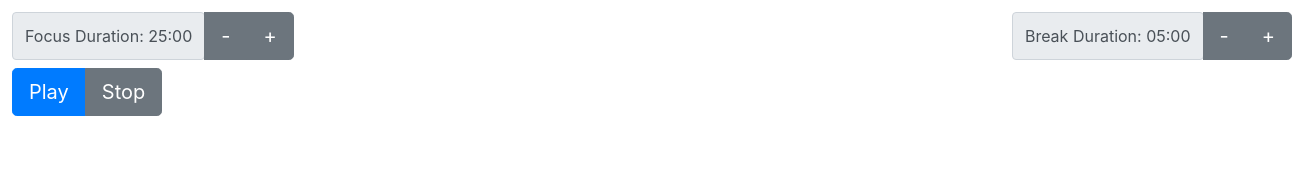
Test: Pomodoro Timer › Focus duration › decreases when clicking - button
Click the button with test id "decrease-focus".
click(226, 36)  # box [204,12,248,60]
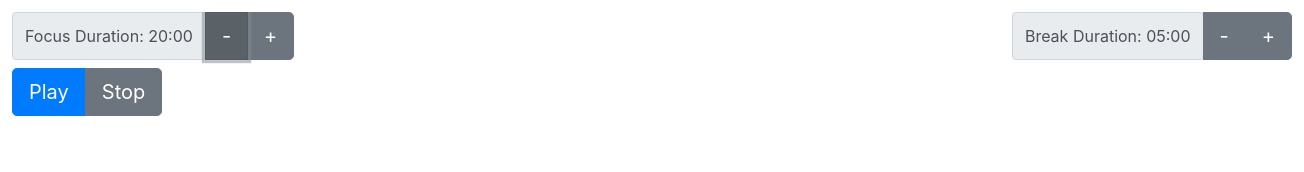
Now the text with test id "duration-focus" reads "Focus Duration: 20:00", box [12,12,206,60]
Click the button with test id "decrease-focus".
click(226, 36)  # box [205,12,248,60]
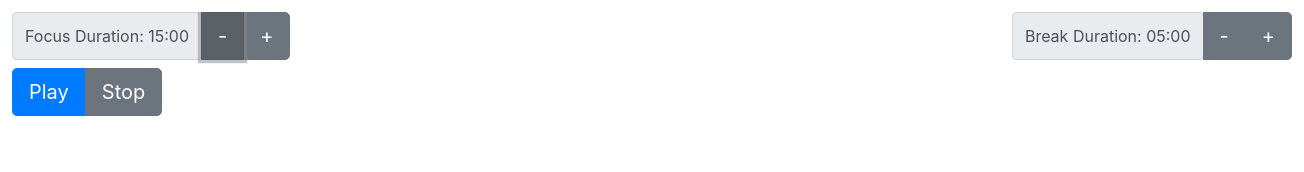
Now the text with test id "duration-focus" reads "Focus Duration: 15:00", box [12,12,202,60]
